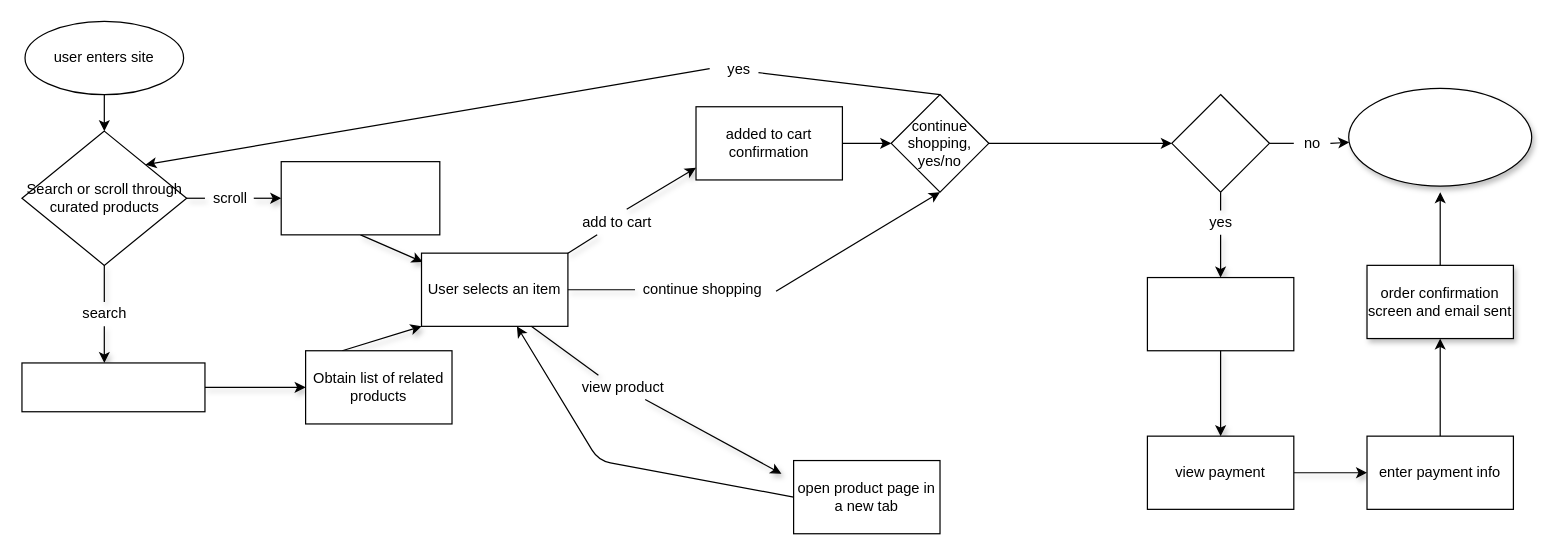
The diagram is 1560 pixels wide and 555 high, and some of its shapes have lost their labels. Each missing label, with the centre of its shape:
"continue to checkout yes/no" goes at [1220,142].
"Get User Input" goes at [113,387].
"Obtain list of curated products" goes at [360,197].
"user leaves the site" goes at [1441,138].
"view cart" goes at [1220,313].
